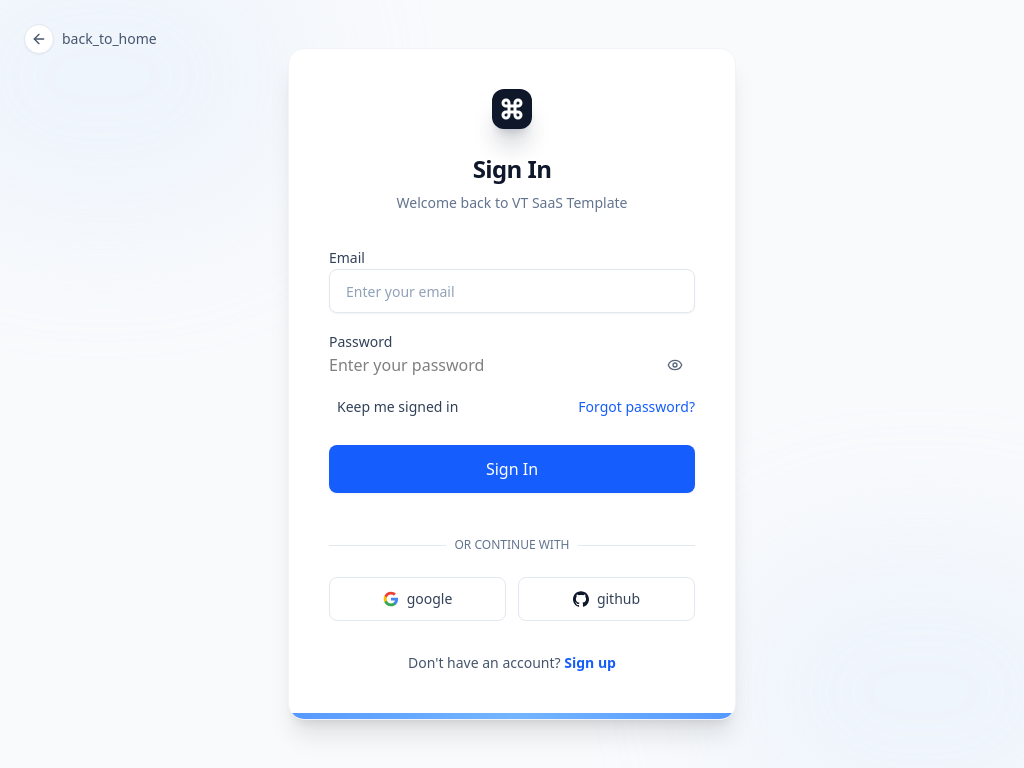
Test: SignInFormClient › shows validation error for empty password
The width and height of the screenshot is (1024, 768).
Type "test@example.com" into the field labelled "Email" at (512, 291), box [329,269,695,313]
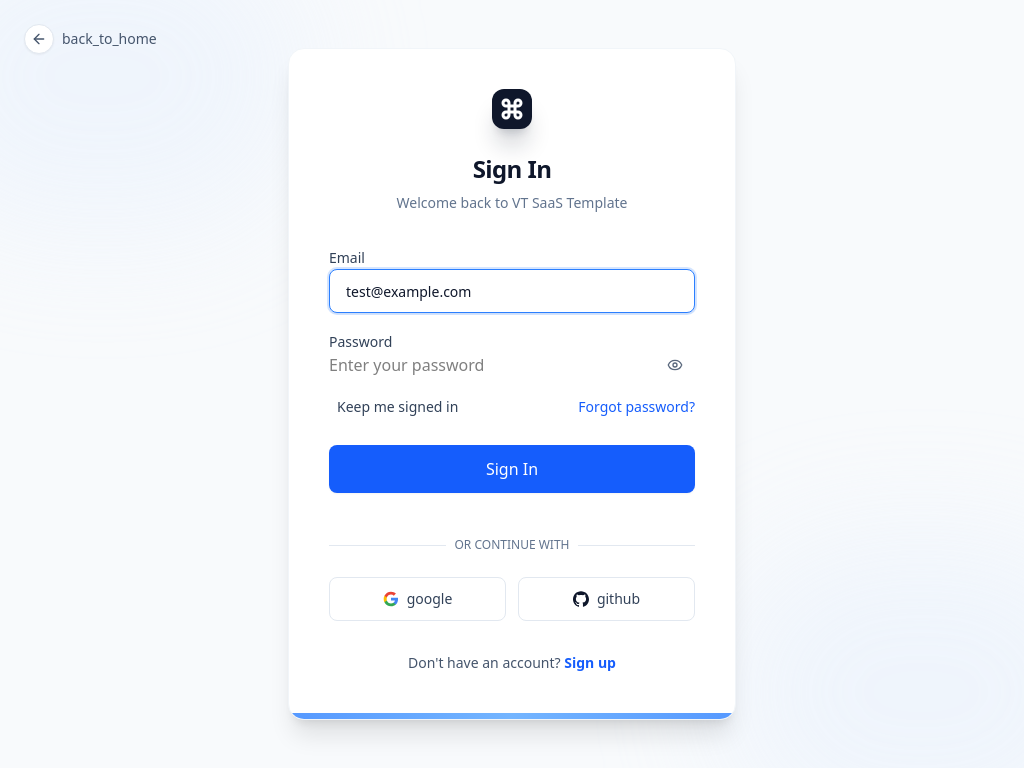
Click the button "Sign In" at (512, 469), box [329,445,695,493]
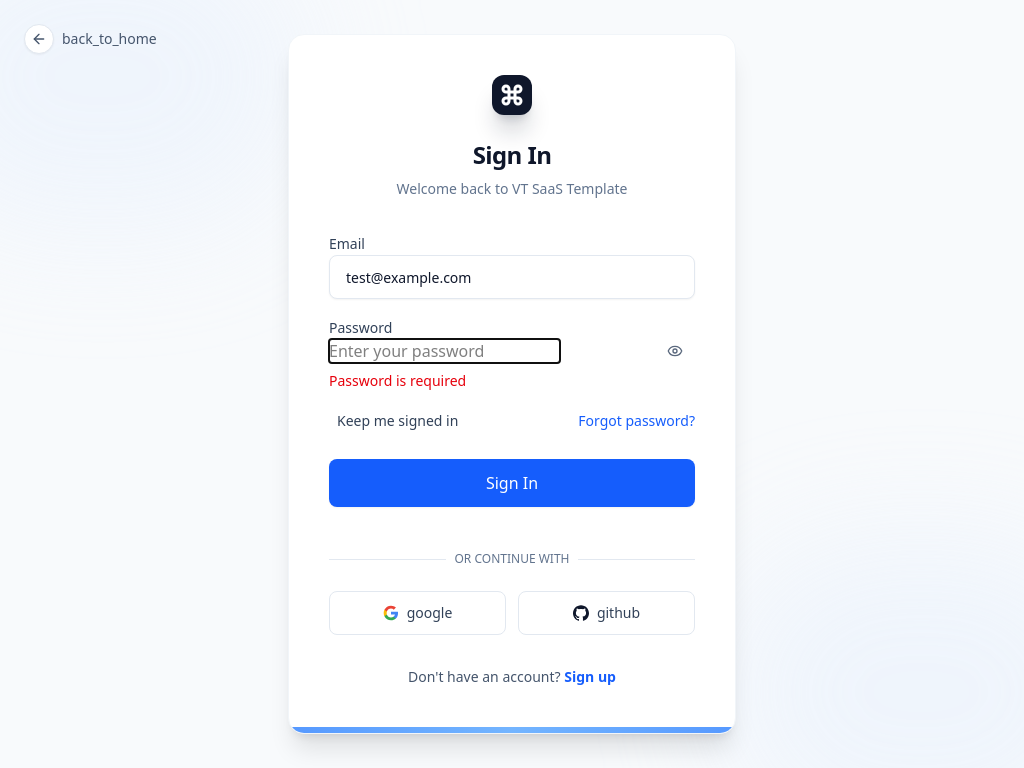
Result: the text "Password is required" is shown at [329,371,466,390]
